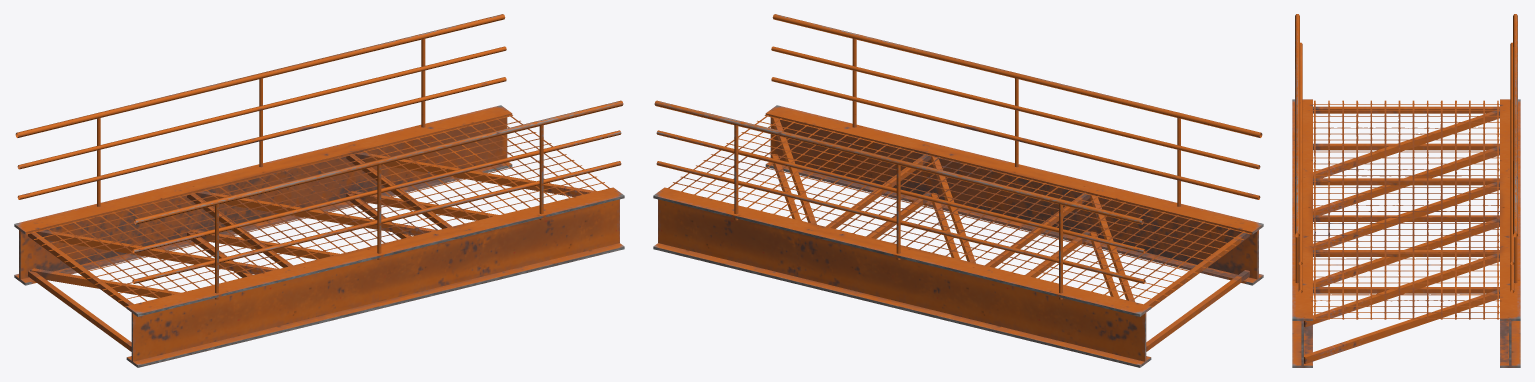
File: CraneBackArmSection.fbx
3 renders of one model, left to right at view 1: azimuth 30°, elevation 25°; view 2: azimuth 150°, elevation 25°; view 3: azimuth 270°, elevation 25°, orthographic. The views are drawn at different scales.
Visible parts, largest first — view 1: Crane_Back_Arm_Section_LOD0; view 2: Crane_Back_Arm_Section_LOD0; view 3: Crane_Back_Arm_Section_LOD0.
Boxes of the visible parts, box(x1,y1,x2,y2) form: Crane_Back_Arm_Section_LOD0: box(14, 14, 624, 367); Crane_Back_Arm_Section_LOD0: box(653, 14, 1263, 367); Crane_Back_Arm_Section_LOD0: box(1292, 14, 1520, 367).
Size of what is drawn, in the model's own units: 5 by 1.43 by 2.2.
